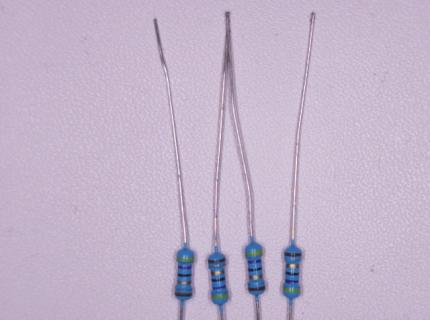Black band: (285, 270, 299, 276), (212, 277, 225, 282), (178, 273, 191, 277), (249, 268, 261, 272)
Brown band: (209, 258, 226, 264), (285, 252, 301, 257), (175, 293, 192, 297), (248, 287, 265, 291)
Gold band: (177, 280, 191, 285), (286, 263, 299, 268), (211, 270, 224, 275), (249, 275, 262, 279)
Violet band: (178, 265, 192, 269), (212, 285, 226, 289), (285, 279, 299, 283), (247, 260, 261, 263)
Yellow band: (212, 293, 228, 300), (177, 257, 194, 262), (246, 250, 262, 255), (284, 288, 300, 293)
